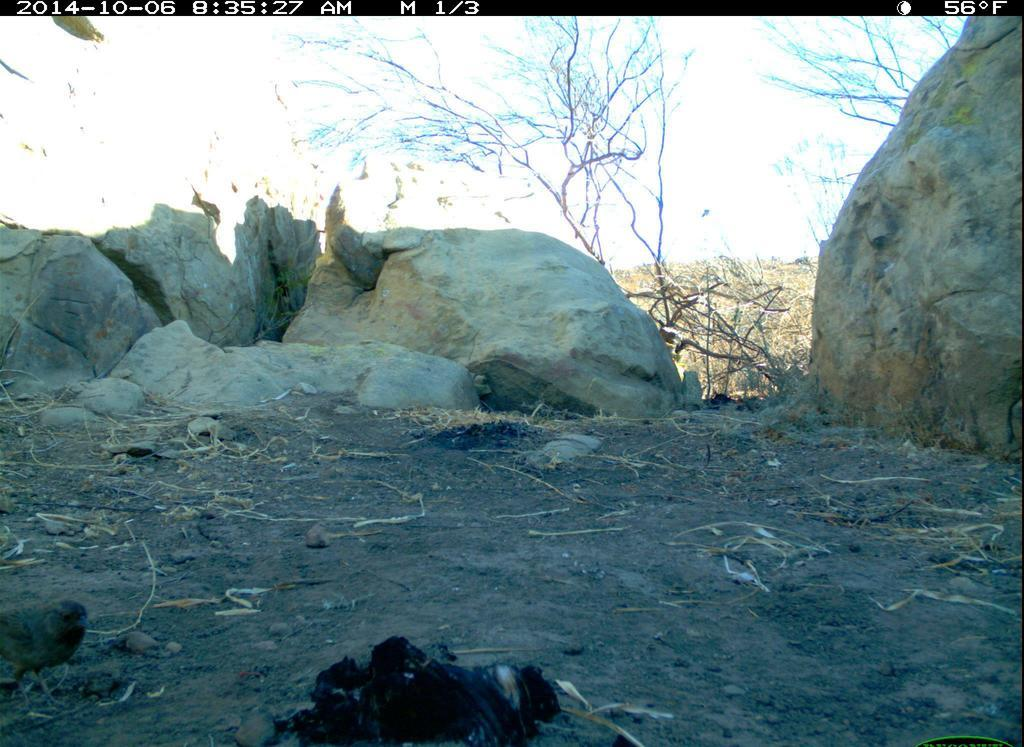bird: (6, 583, 99, 707)
